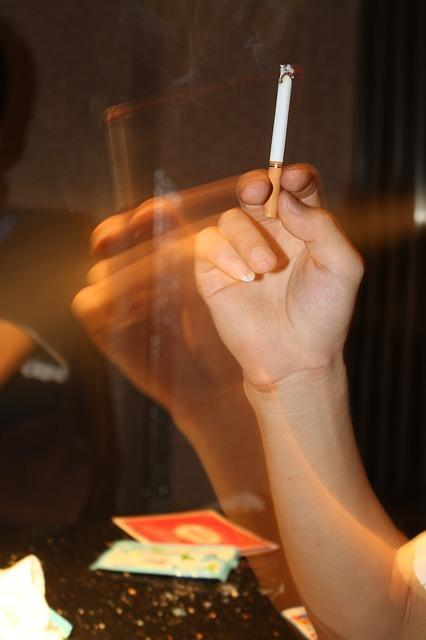smoke: (258, 56, 303, 221)
